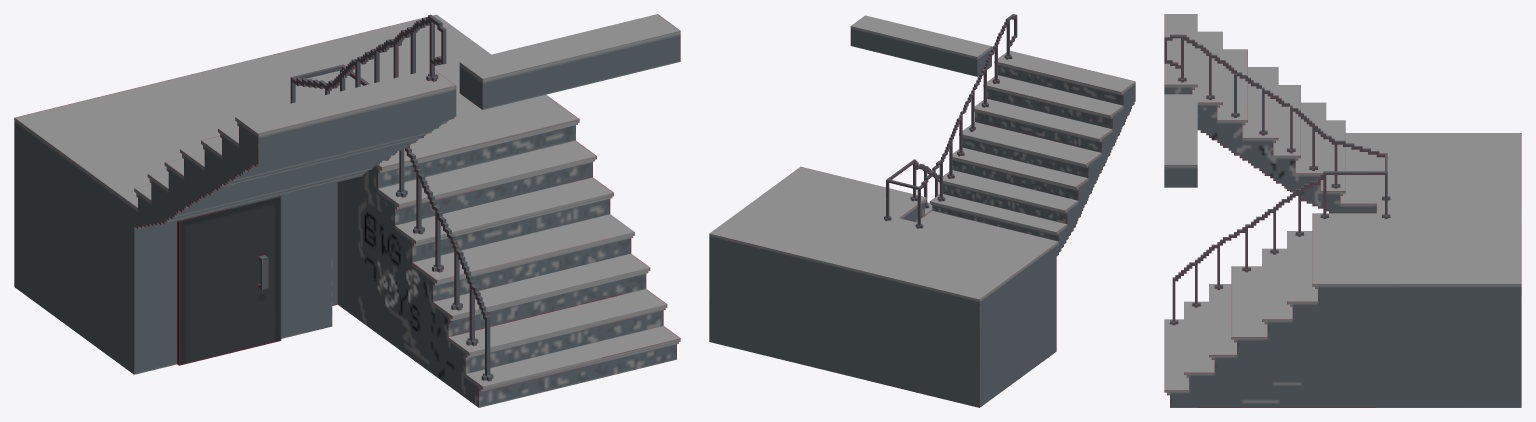
The model's file is stair_1.obj.
The picture shows the model from 3 angles, left to right: view 1: azimuth 30°, elevation 25°; view 2: azimuth 150°, elevation 25°; view 3: azimuth 270°, elevation 25°; orthographic projection. The views are drawn at different scales.
Parts seen in each view (by area): view 1: stair_1; view 2: stair_1; view 3: stair_1.
Part boxes in pixels (bbox=[...]): stair_1: bbox=[14, 14, 680, 407]; stair_1: bbox=[709, 14, 1135, 407]; stair_1: bbox=[1164, 14, 1521, 407].
Bounding box in the file's own units: 12.8 × 11.4 × 12.8.
1 material, 1 textured.
